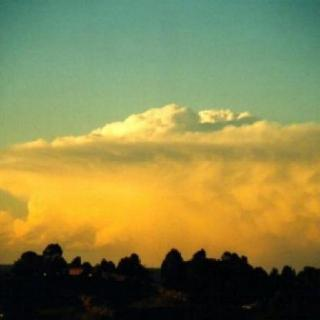Cumulonimbus: (0, 63, 320, 261)
